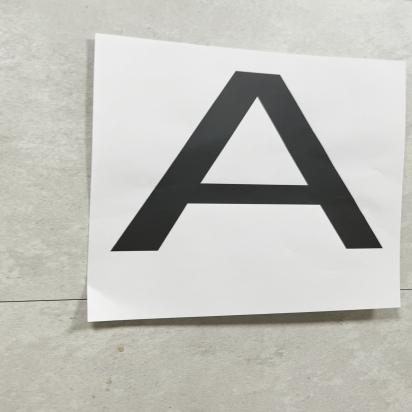seat: (119, 49, 394, 265)
